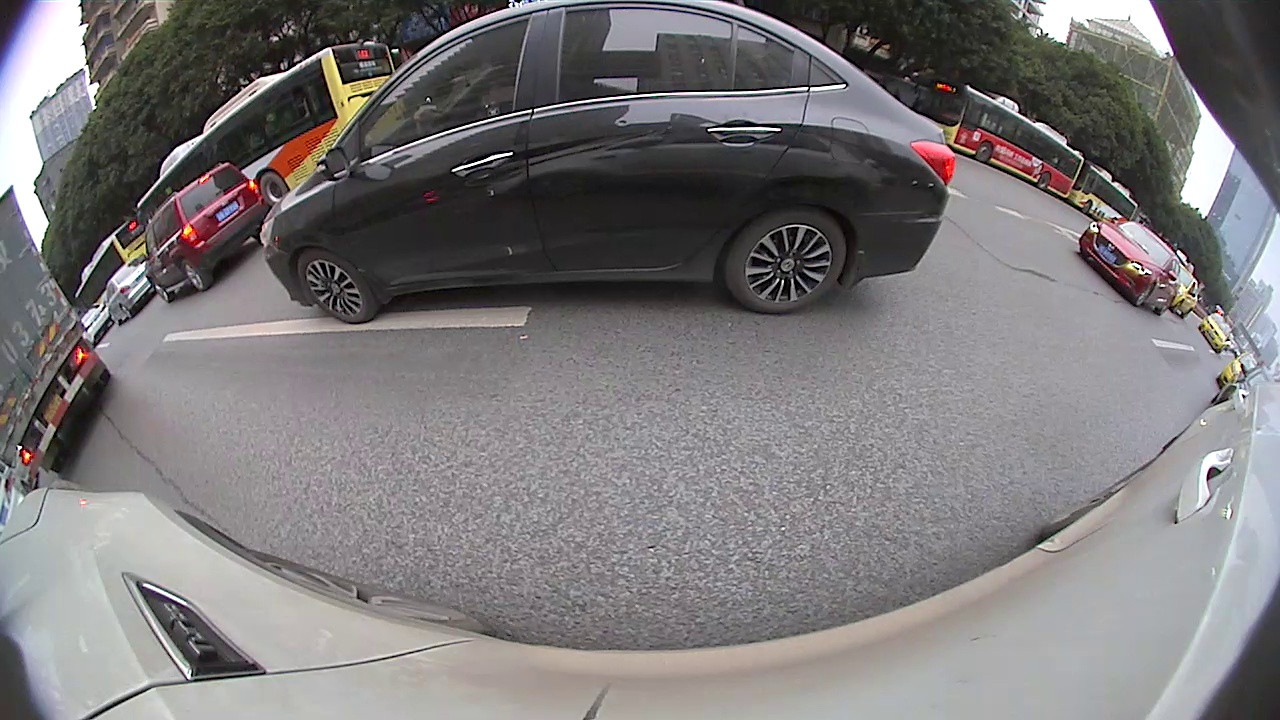bus: (136, 41, 398, 212), (930, 81, 1080, 199), (70, 210, 154, 316), (1073, 159, 1140, 224)
car: (266, 3, 959, 328), (144, 159, 268, 302), (1077, 214, 1181, 316), (106, 258, 159, 324), (1172, 267, 1202, 321), (1200, 316, 1233, 354)
front: (296, 248, 376, 322), (1134, 282, 1155, 307), (154, 283, 171, 302), (975, 145, 991, 162), (1080, 199, 1093, 214)
rear: (723, 207, 848, 314), (182, 262, 214, 291), (260, 174, 288, 205), (1036, 172, 1051, 190), (121, 305, 132, 319)
truck: (3, 187, 112, 504)
